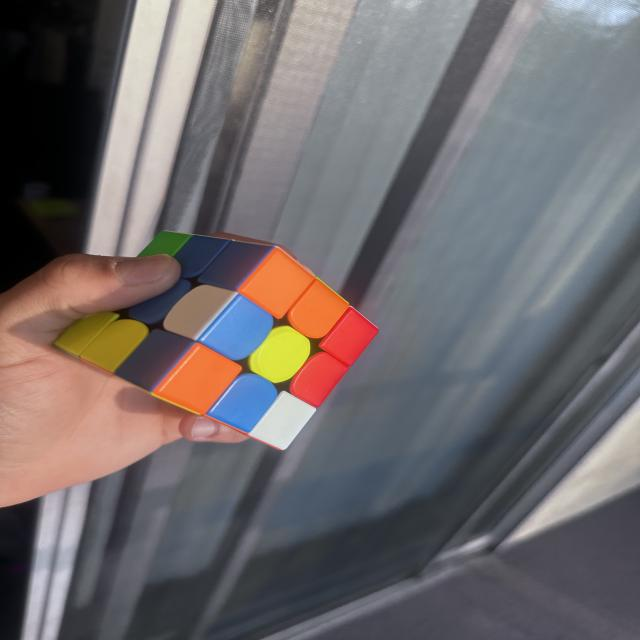sticker: (150, 341, 243, 415), (237, 248, 315, 320), (196, 294, 275, 361), (115, 330, 195, 394), (163, 285, 240, 343), (246, 390, 319, 451), (205, 373, 277, 434), (199, 238, 275, 292), (79, 317, 150, 374), (316, 306, 381, 367), (287, 278, 351, 339), (246, 325, 312, 384), (286, 351, 351, 409), (52, 310, 120, 360), (126, 277, 192, 325), (172, 234, 232, 278), (137, 230, 192, 260)
